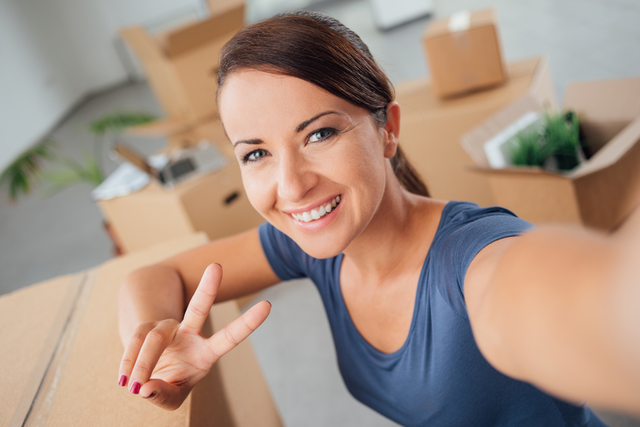face: (216, 10, 402, 260)
hand: (117, 262, 276, 410)
